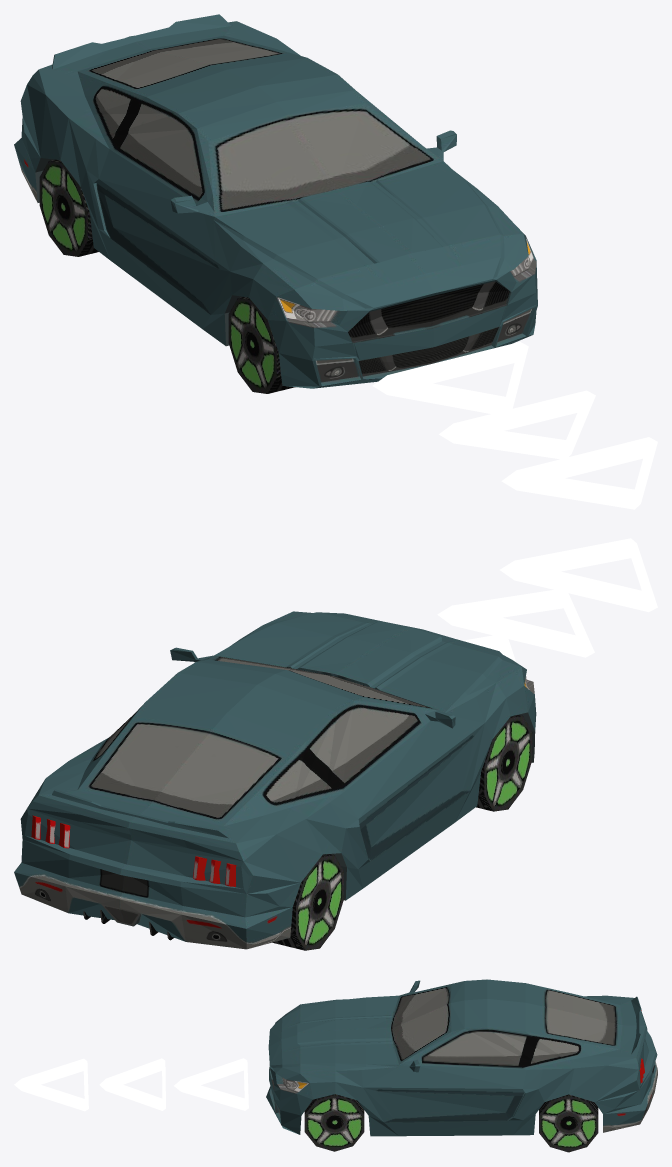
Rendered from cararrow3.glb.
3 renders of one model, top to bottom at view 1: azimuth 30°, elevation 25°; view 2: azimuth 150°, elevation 25°; view 3: azimuth 270°, elevation 25°, orthographic. The views are drawn at different scales.
Visible parts, largest first — view 1: SOWXPDD9QMF2G5FUI03HPQR2D, Object_2.002, Object_2.001, Object_2; view 2: SOWXPDD9QMF2G5FUI03HPQR2D, Object_2.002, Object_2, Object_2.001; view 3: SOWXPDD9QMF2G5FUI03HPQR2D, Object_2.001, Object_2.002, Object_2.
Boxes of the visible parts, x1=… form: SOWXPDD9QMF2G5FUI03HPQR2D: x1=14, y1=14, x2=537, y2=393; Object_2.002: x1=501, y1=437, x2=657, y2=509; Object_2.001: x1=372, y1=342, x2=528, y2=413; Object_2: x1=439, y1=390, x2=595, y2=459; SOWXPDD9QMF2G5FUI03HPQR2D: x1=14, y1=611, x2=536, y2=950; Object_2.002: x1=500, y1=538, x2=657, y2=612; Object_2: x1=437, y1=588, x2=594, y2=657; Object_2.001: x1=462, y1=634, x2=515, y2=661; SOWXPDD9QMF2G5FUI03HPQR2D: x1=266, y1=979, x2=657, y2=1152; Object_2.001: x1=174, y1=1058, x2=248, y2=1110; Object_2.002: x1=14, y1=1058, x2=88, y2=1111; Object_2: x1=99, y1=1058, x2=165, y2=1110.
Size of the model in its own units: 1.29 by 0.8077 by 4.11.
Materials: 4 (1 with a texture image).
